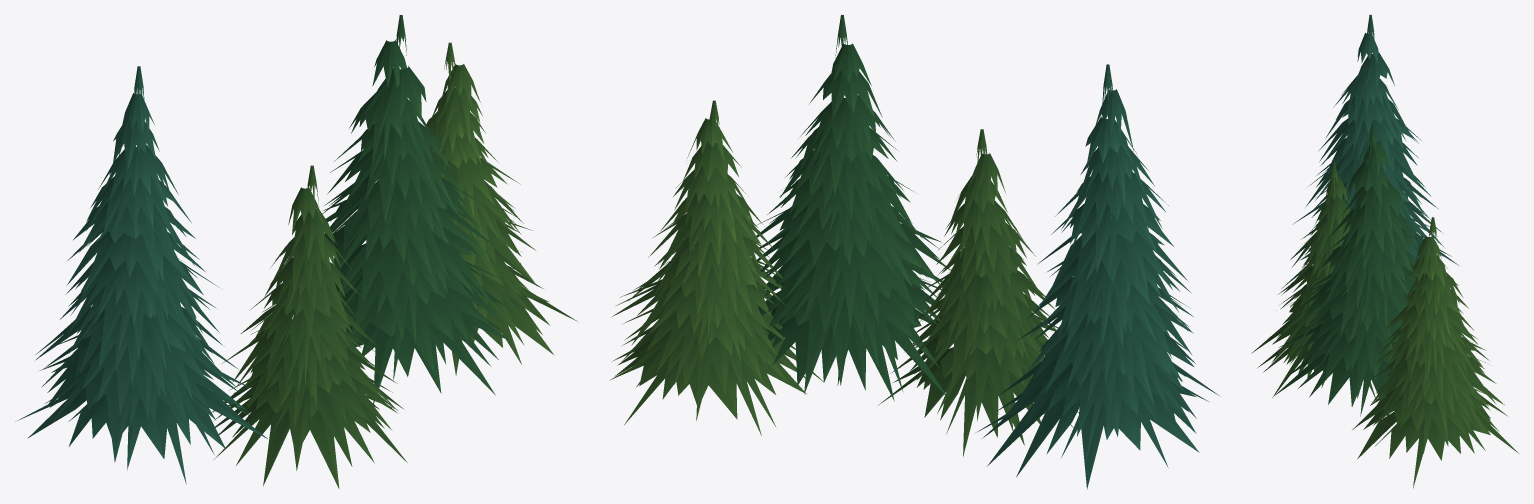
The model's file is pine_21.glb.
The picture shows the model from 3 angles, left to right: view 1: azimuth 30°, elevation 25°; view 2: azimuth 150°, elevation 25°; view 3: azimuth 270°, elevation 25°; orthographic projection. The views are drawn at different scales.
Visible parts, largest first — view 1: pine_21; view 2: pine_21; view 3: pine_21.
Boxes of the visible parts, <box> form: pine_21: <box>15,15,577,488</box>; pine_21: <box>609,15,1219,489</box>; pine_21: <box>1251,14,1518,488</box>.
Bounding box in the file's own units: 21.21 × 14.28 × 11.32.
Materials: 1 (1 with a texture image).
